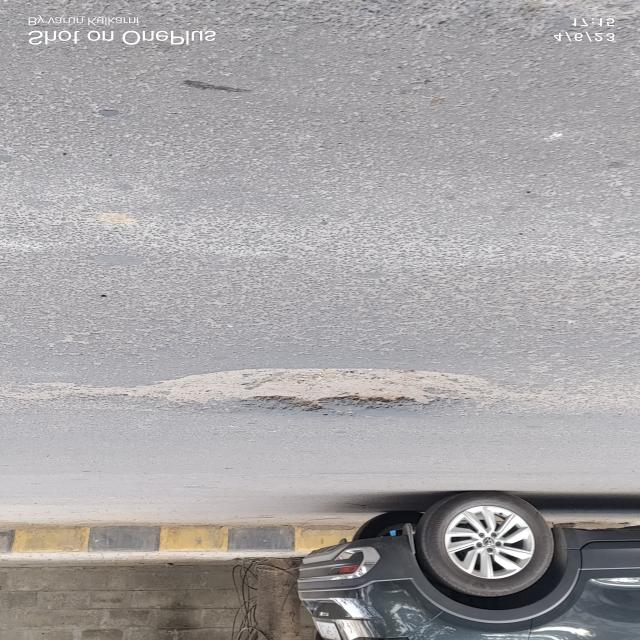potholes: (2, 359, 513, 419)
